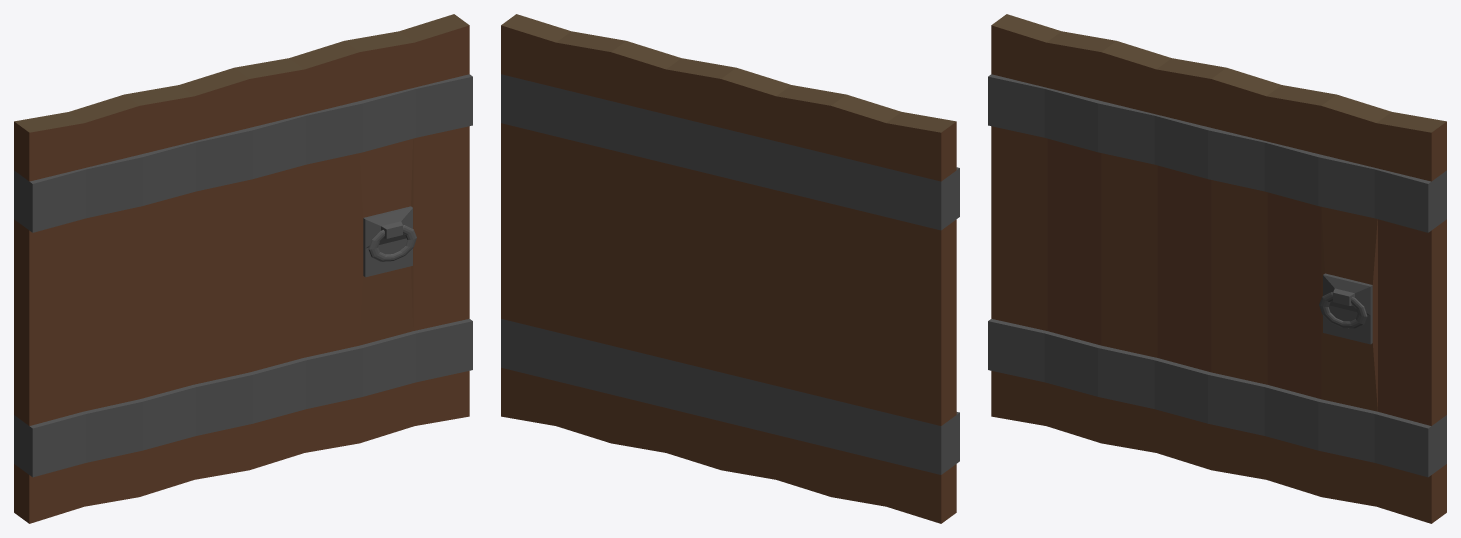
The model's file is Door.fbx.
The picture shows the model from 3 angles, left to right: view 1: azimuth 30°, elevation 25°; view 2: azimuth 150°, elevation 25°; view 3: azimuth 330°, elevation 25°; orthographic projection.
Visible parts, largest first — view 1: Door.001; view 2: Door.001; view 3: Door.001.
Part boxes in pixels (<box>): Door.001: <box>14,14,472,523</box>; Door.001: <box>501,14,959,523</box>; Door.001: <box>988,14,1446,523</box>.
Size of the model in its own units: 190 by 161 by 17.3.
